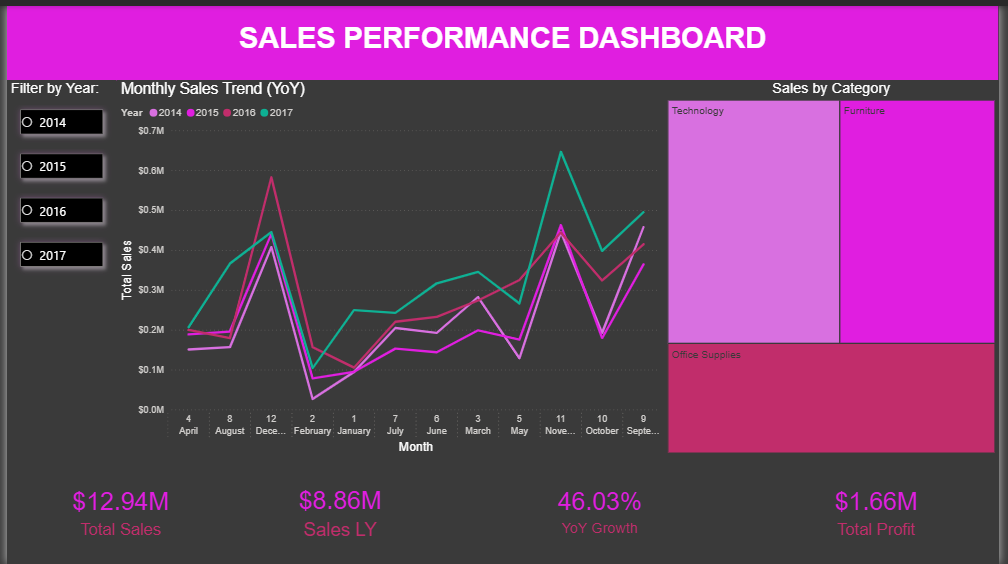

This screenshot's page, from the dashboard's own definition file:
{"tool":"powerbi","page":{"name":"Page 1","canvas":[1280,720],"ordinal":0},"visuals":[{"type":"textbox","box":[0,0,1279.1,96],"z":0},{"type":"card","title":"Total Sales","fields":{"Values":["_measures.Total Sales"]},"box":[0,582.5,293.2,137.5],"z":1000},{"type":"card","fields":{"Values":["_measures.Total Profit"]},"box":[963.9,582.5,315.2,137.5],"z":2000},{"type":"card","fields":{"Values":["_measures.YoY Growth"]},"box":[566.9,582.5,397,134.9],"z":3000},{"type":"lineChart","title":"Monthly Sales Trend (YoY)","fields":{"Series":["sales_performance dim_date1.Year"],"Category":["sales_performance dim_date1.MonthName","sales_performance dim_date1.Month"],"Y":["_measures.Total Sales"]},"box":[141.4,96,705.7,486.5],"z":4000},{"type":"listSlicer","fields":{"Values":["sales_performance dim_date1.Year"]},"box":[0,96,141.4,486.5],"z":5000},{"type":"card","fields":{"Values":["_measures.Sales LY"]},"box":[293.2,582.5,273.7,137.5],"z":6000},{"type":"treemap","title":"Sales by Category","fields":{"Group":["sales_performance dim_product.Category"],"Values":["Sum(sales_performance fact_sales.SalesAmount)"]},"box":[847.1,96,432,486.5],"z":7000}]}

Visuals, with their boxes in screenshot pixels (x1, y1, x2, y2), scaled from the page's 1280x720 canvas onto the 1008x564 screenshot:
textbox: select_region(0, 0, 1007, 75)
"Total Sales" card: select_region(0, 456, 231, 563)
card - _measures.Total Profit: select_region(759, 456, 1007, 563)
card - _measures.YoY Growth: select_region(446, 456, 759, 562)
"Monthly Sales Trend (YoY)" lineChart: select_region(111, 75, 667, 456)
listSlicer - sales_performance dim_date1.Year: select_region(0, 75, 111, 456)
card - _measures.Sales LY: select_region(231, 456, 446, 563)
"Sales by Category" treemap: select_region(667, 75, 1007, 456)
